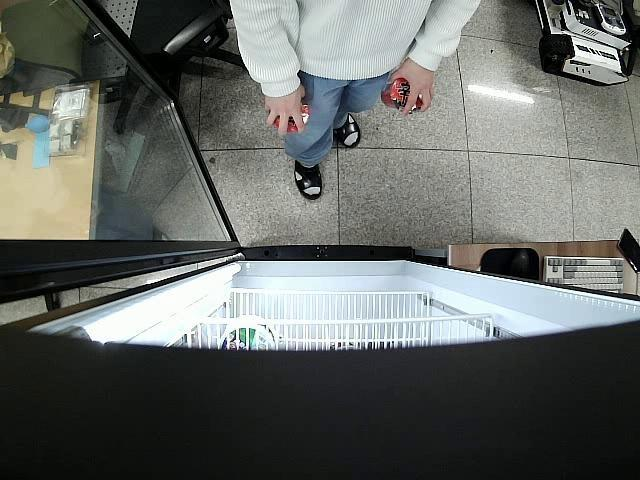02_shinRamen_S: (381, 77, 422, 114), (274, 100, 308, 133)
